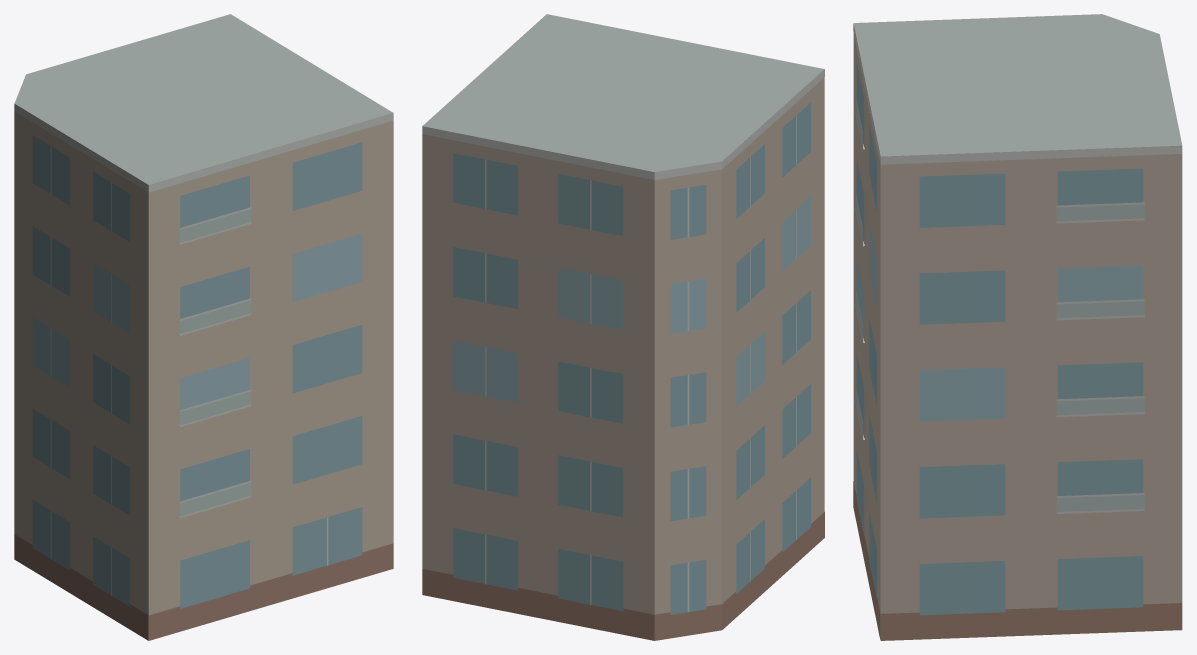
Rendered from survey-upis-33036367.glb.
The picture shows the model from 3 angles, left to right: view 1: azimuth 30°, elevation 25°; view 2: azimuth 150°, elevation 25°; view 3: azimuth 270°, elevation 25°; orthographic projection. The views are drawn at different scales.
Visible parts, largest first — view 1: survey-upis-33036367.tmp; view 2: survey-upis-33036367.tmp; view 3: survey-upis-33036367.tmp.
Part boxes in pixels (x1=…): survey-upis-33036367.tmp: x1=14, y1=14, x2=393, y2=640; survey-upis-33036367.tmp: x1=422, y1=14, x2=824, y2=640; survey-upis-33036367.tmp: x1=853, y1=14, x2=1182, y2=640.
Size of the model in its own units: 9.16 by 14.5 by 8.93.
